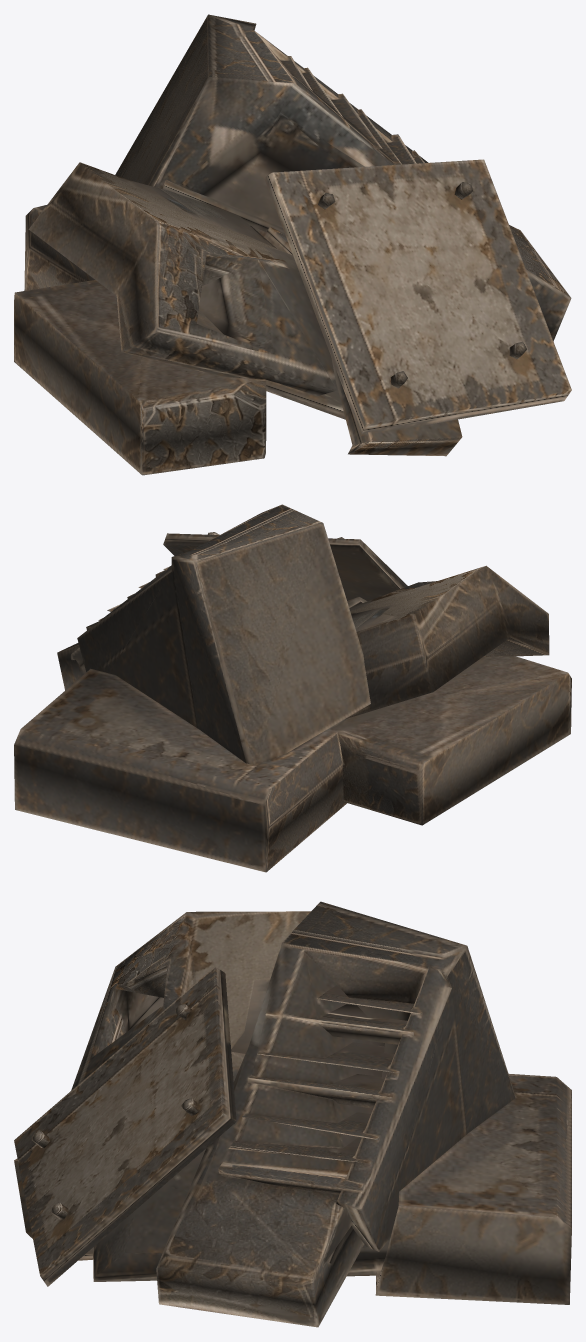
File: Scrap Pile.glb
3 renders of one model, top to bottom at view 1: azimuth 30°, elevation 25°; view 2: azimuth 150°, elevation 25°; view 3: azimuth 270°, elevation 25°, orthographic. The views are drawn at different scales.
Size of the model in its own units: 2 by 1.22 by 2.
1 material, 1 textured.
